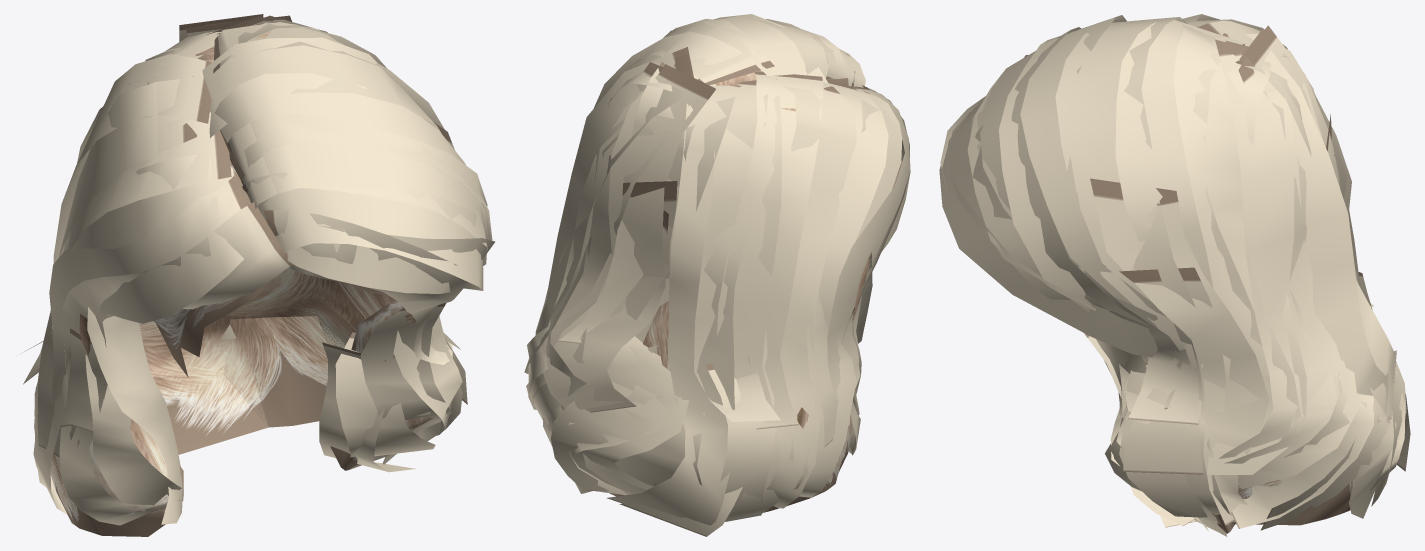
Rendered from hair_006.obj.
3 views of the same model, side by side, from view 1: azimuth 30°, elevation 25°; view 2: azimuth 150°, elevation 25°; view 3: azimuth 270°, elevation 25° (orthographic). The views are drawn at different scales.
Size of the model in its own units: 22.62 by 28.98 by 26.56.
